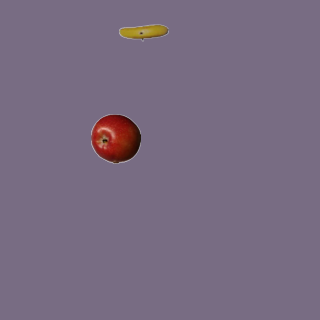Apple Braeburn: (90, 113, 140, 163)
Banana: (118, 7, 168, 57)
